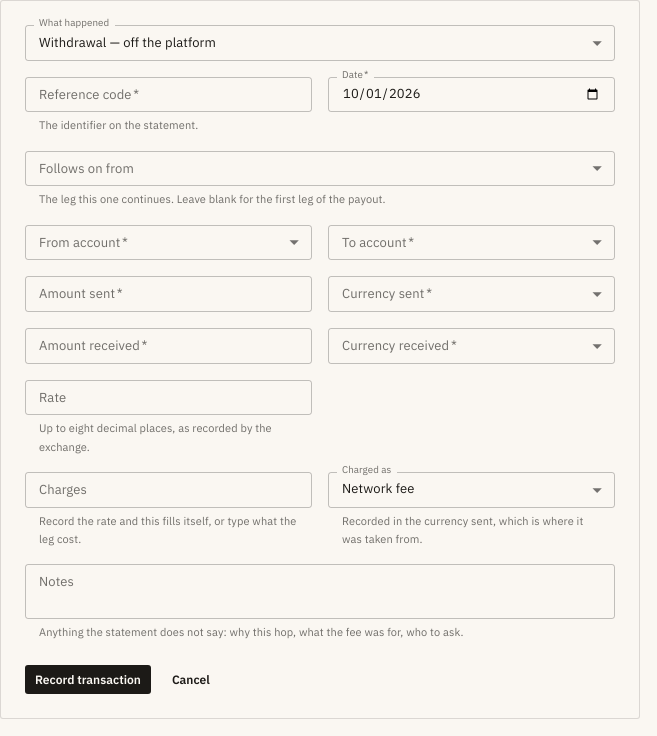
Test: what a leg kept (F32) › files it as a network fee, or a platform charge on the award
Check: the dropdown named "From account" next to "From account" is shown, box left=25, top=225, right=312, bottom=260
Check: the dropdown named "Charged as" reads "Network fee", box left=342, top=480, right=415, bottom=497
What coordinates should you click on to do the following:
click the dropdown named "What happened"
I would click on:
 (128, 42)
Its box is left=39, top=34, right=216, bottom=50.
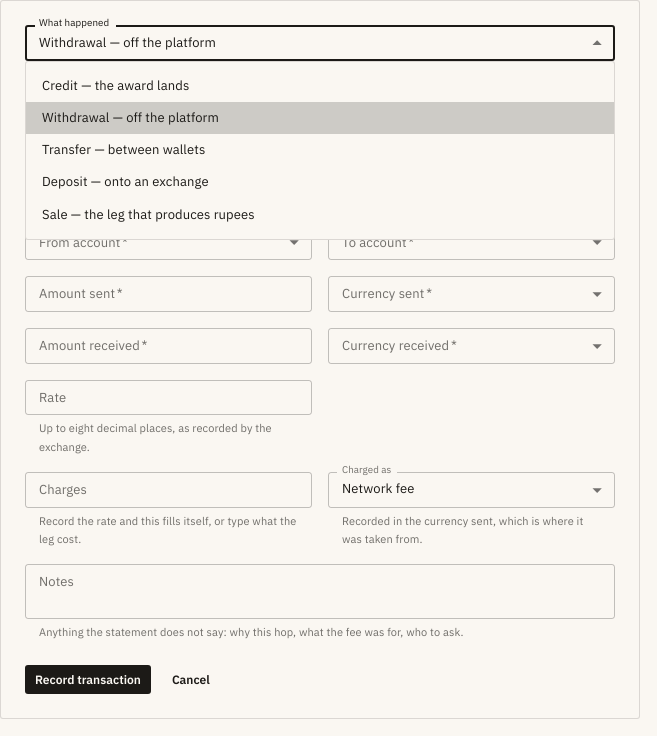
What coordinates should you click on to do the following:
click the option "Credit — the award lands"
I would click on:
 (116, 86)
Its box is left=42, top=77, right=189, bottom=94.
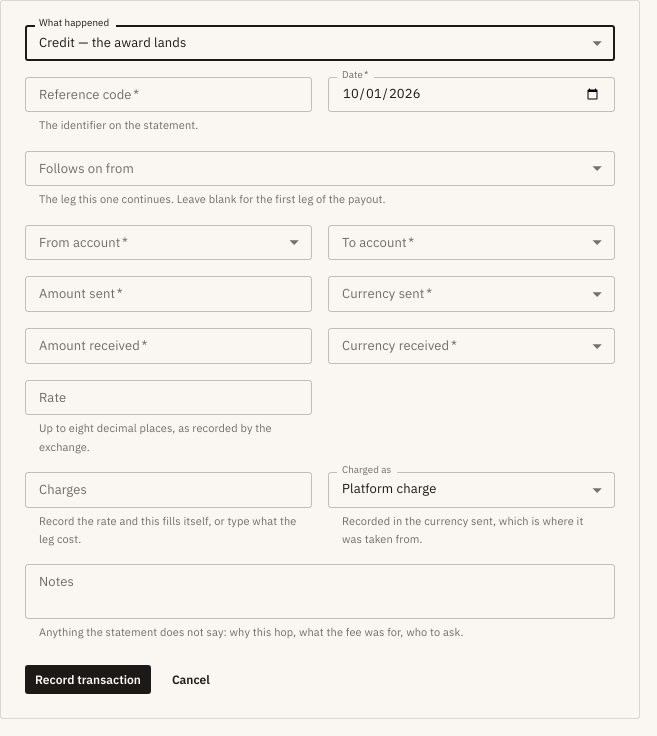
Check: the dropdown named "Charged as" reads "Platform charge", box left=342, top=480, right=436, bottom=497
